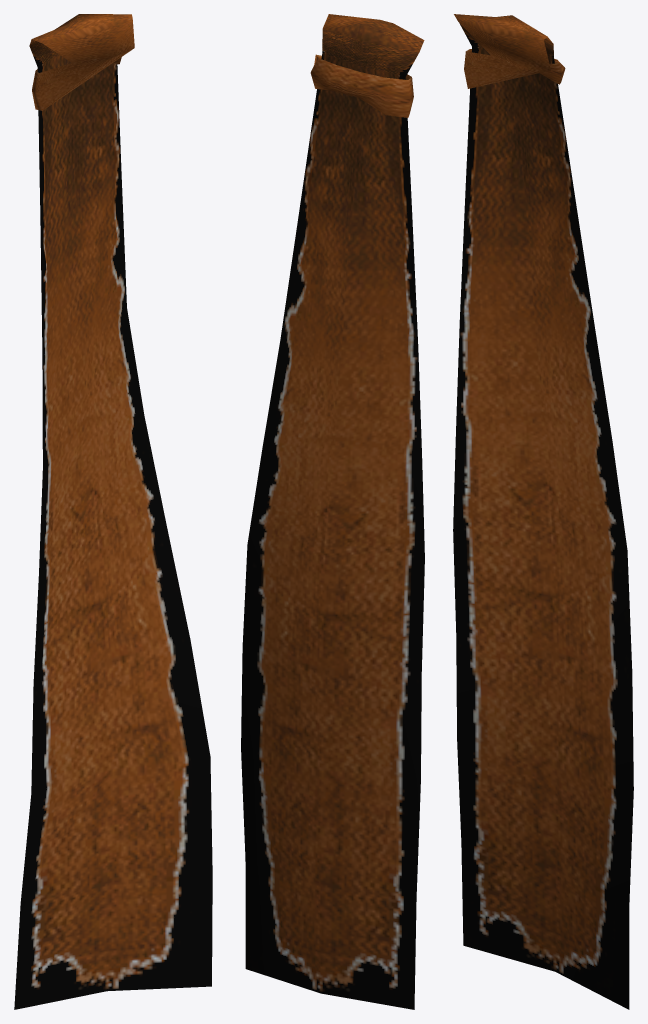
File: fxanim_gp_streamer_med_orange_mod_lod0.glb
3 renders of one model, left to right at view 1: azimuth 30°, elevation 25°; view 2: azimuth 150°, elevation 25°; view 3: azimuth 330°, elevation 25°, orthographic. The views are drawn at different scales.
Visible parts, largest first — view 1: surf0; view 2: surf0; view 3: surf0.
Part boxes in pixels (box(x1,y1,x2,y2)): surf0: box(14, 14, 212, 1009); surf0: box(241, 14, 424, 1009); surf0: box(453, 14, 633, 1009).
Bounding box in the file's own units: 2.76 × 14.12 × 0.875.
